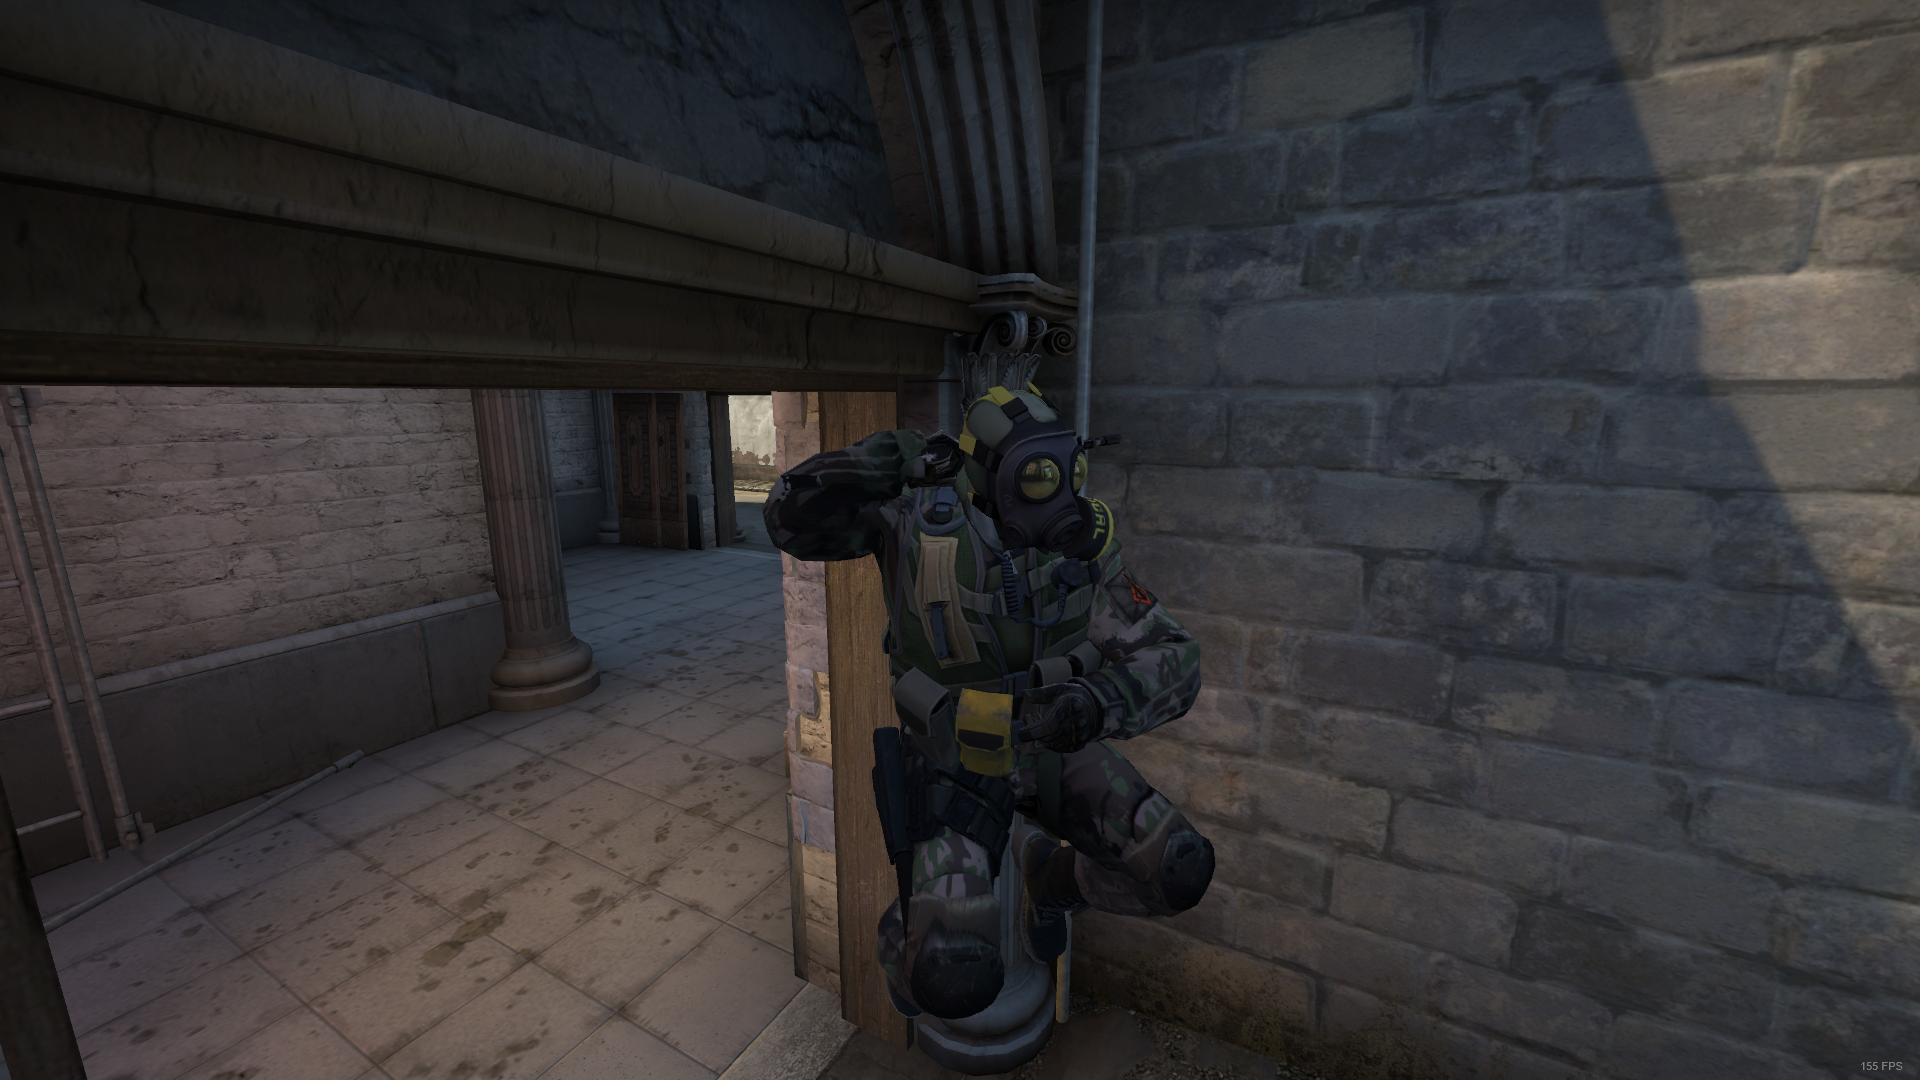ct: (761, 385, 1220, 1062)
